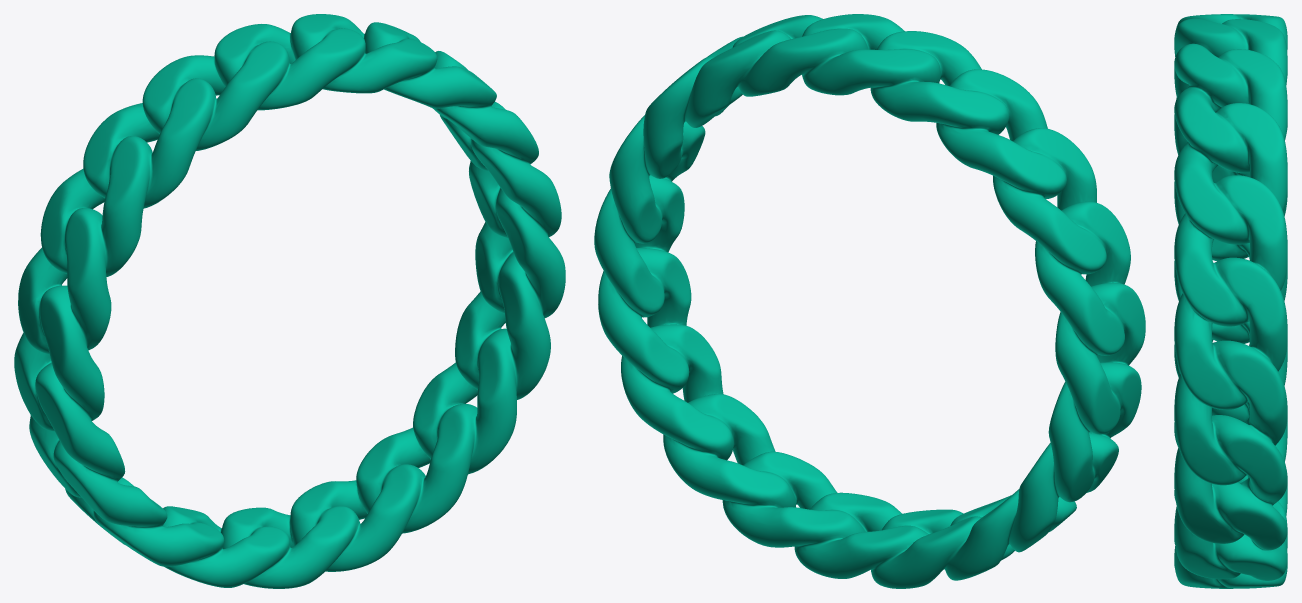
The model's file is BE2990_RENDER.glb.
3 views of the same model, side by side, from view 1: azimuth 30°, elevation 25°; view 2: azimuth 150°, elevation 25°; view 3: azimuth 270°, elevation 25° (orthographic). The views are drawn at different scales.
Parts seen in each view (by area): view 1: Metal03; view 2: Metal03; view 3: Metal03.
Part boxes in pixels (box(x1,y1,x2,y2)): Metal03: box(14, 14, 565, 588); Metal03: box(594, 14, 1145, 588); Metal03: box(1174, 14, 1287, 588).
Bounding box in the file's own units: 20.08 × 20.08 × 3.97.
